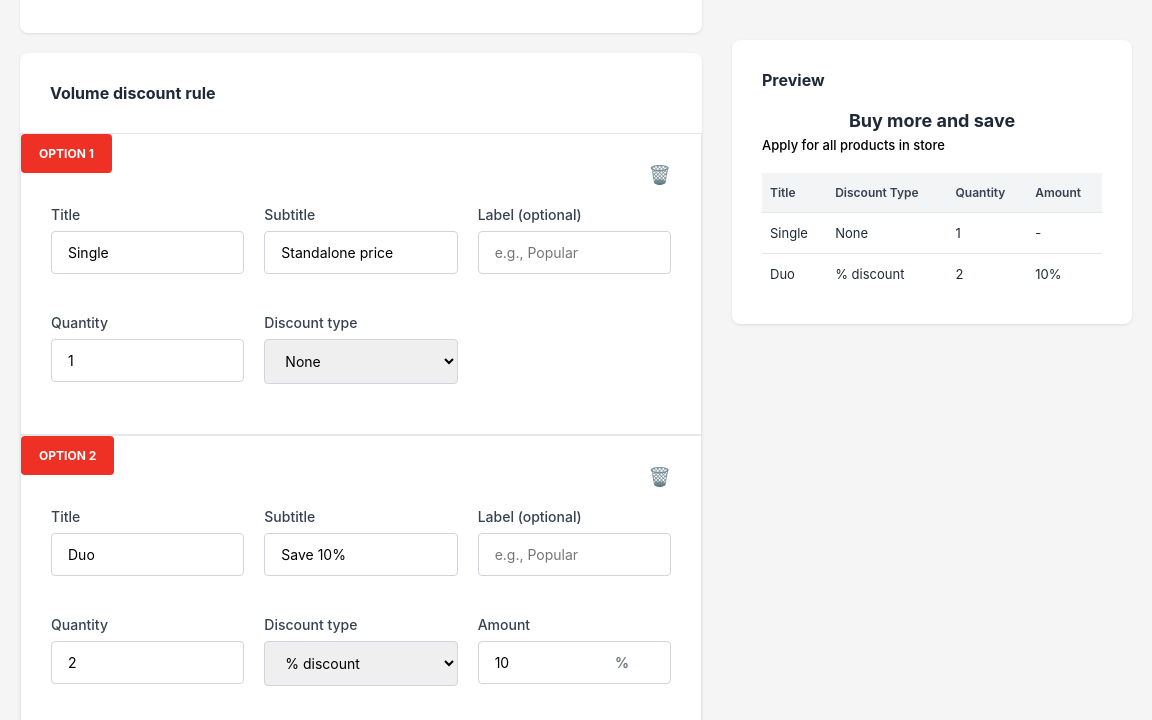
VolumeDiscountForm Component › Form Validation › shows error when option quantity is empty
(page scrolled)
Clear the 1st number field. click: (148, 360)
box: [51,339,244,382]
(page scrolled)
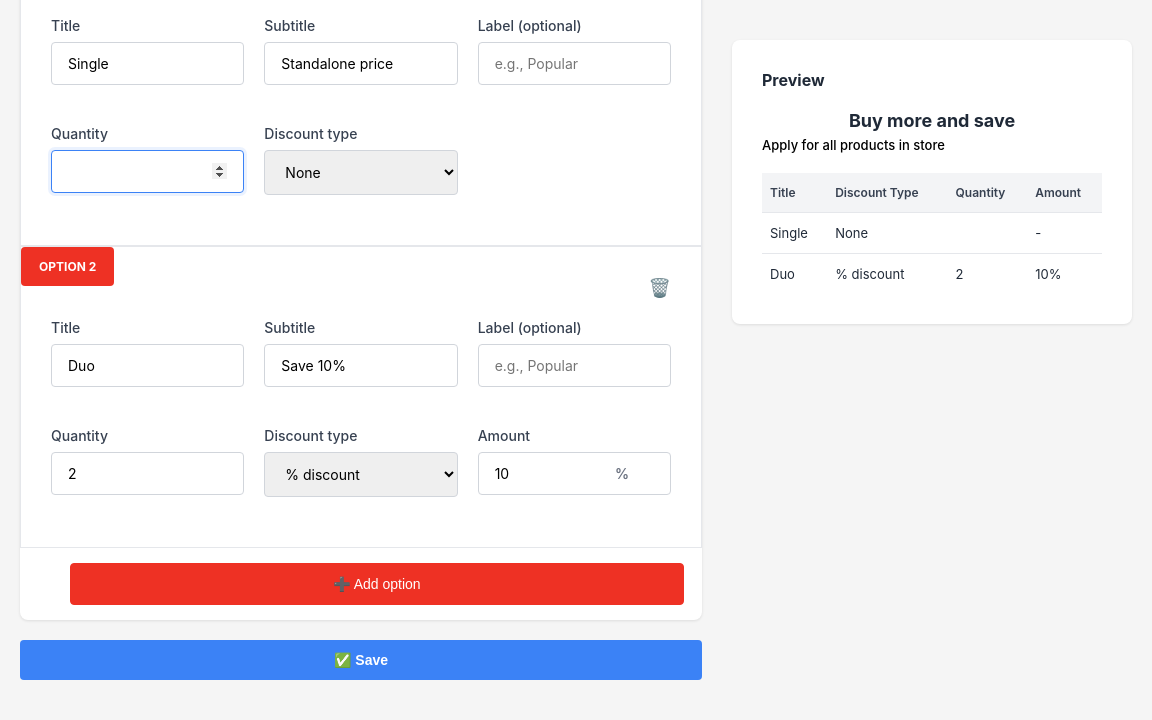
Click the button "✅ Save". click: (361, 660)
box: [20,640,702,680]
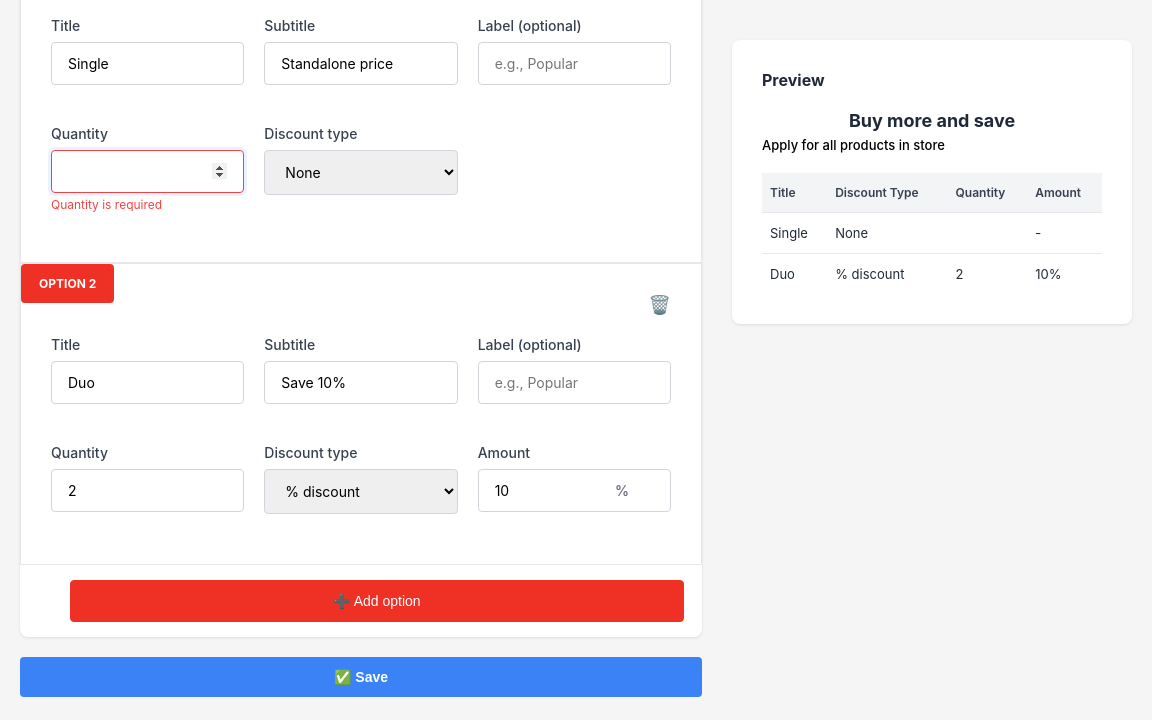
Now the text "Quantity is required" is shown, box [51,197,162,212]
